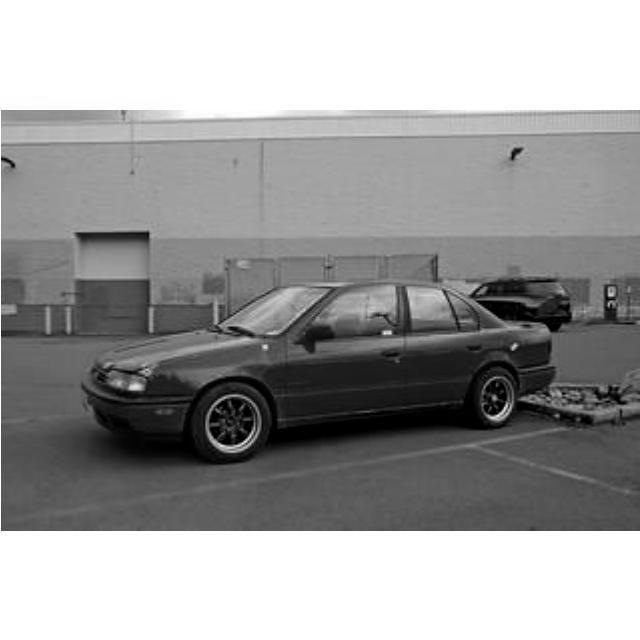fender-dent: (205, 336, 289, 378)
quaterpanel-dent: (480, 322, 552, 376)
